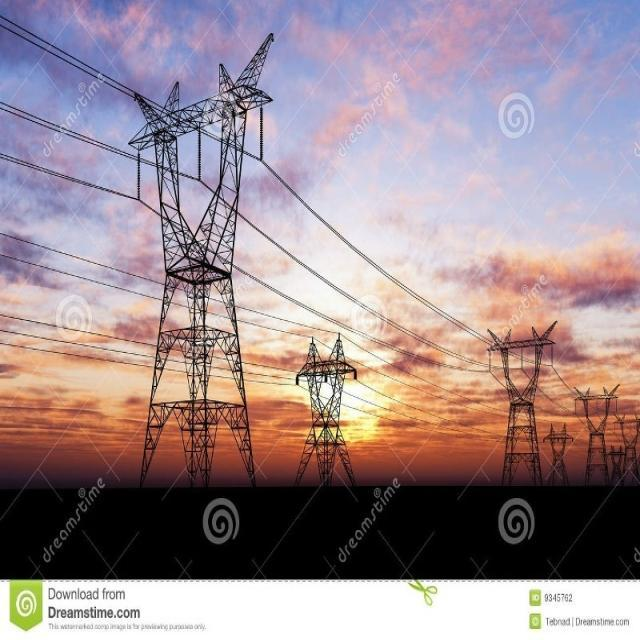non-critical vegetation: (123, 60, 269, 495), (477, 319, 552, 487), (292, 336, 363, 509), (576, 380, 618, 492)
